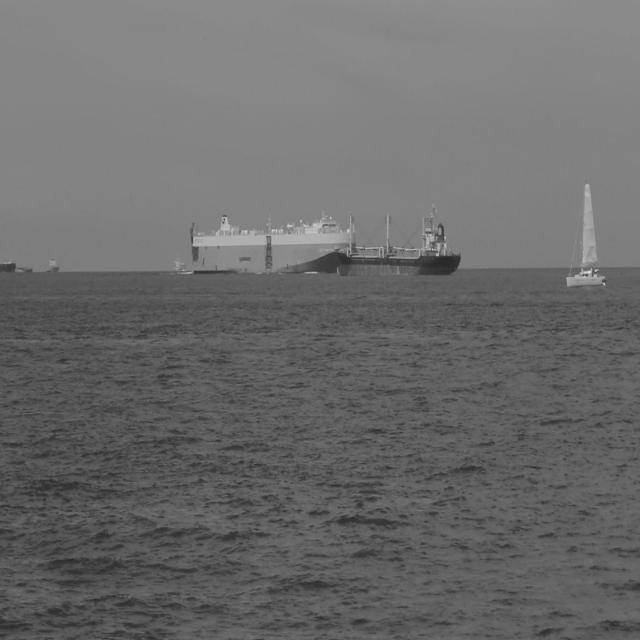ship: (188, 210, 356, 276), (331, 200, 462, 278), (564, 178, 608, 288), (46, 252, 60, 274), (0, 256, 17, 274), (16, 263, 34, 274)
